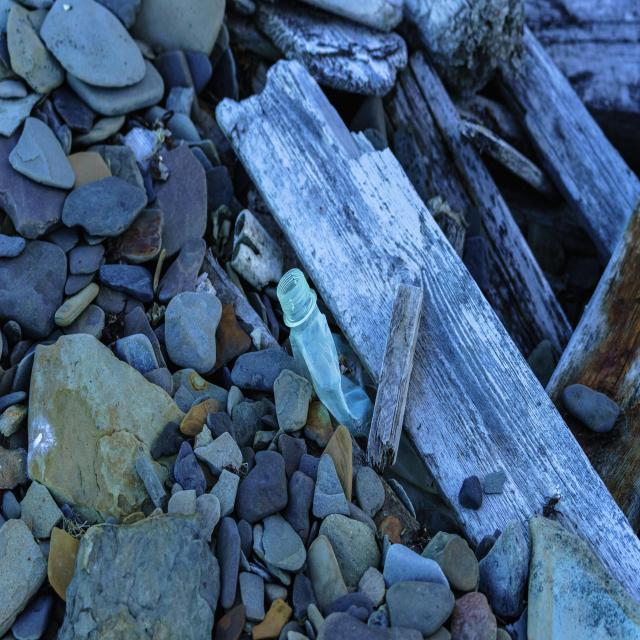litter: (276, 273, 373, 440)
